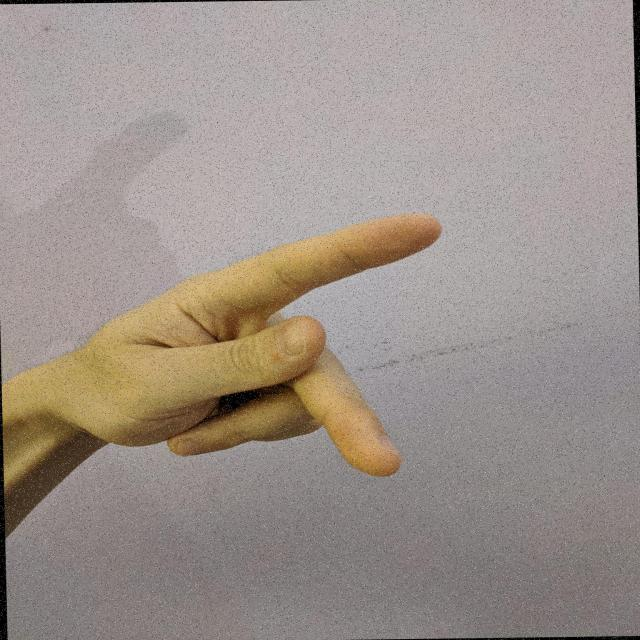P: (44, 210, 454, 486)
